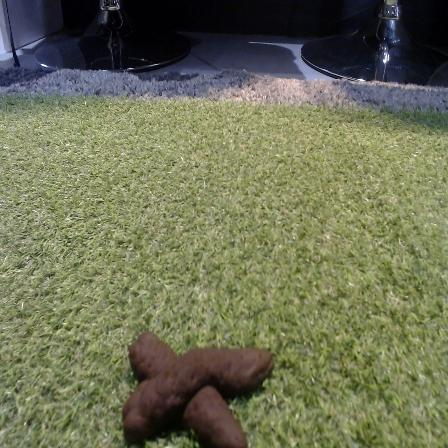dog-poop: (110, 316, 277, 448)
